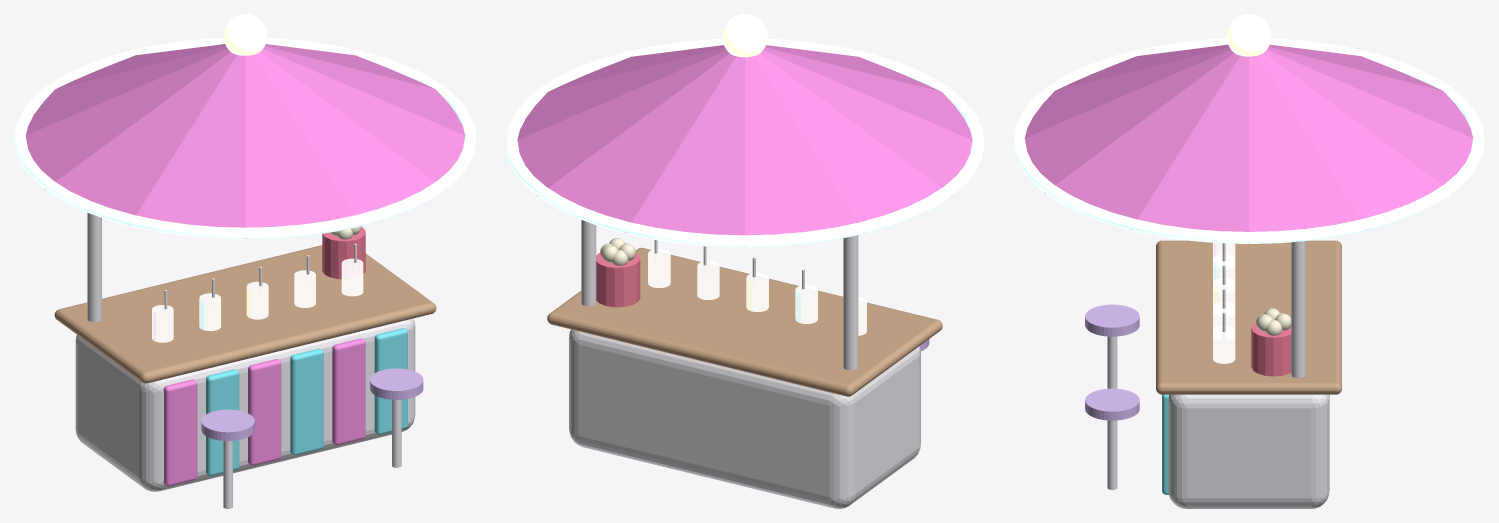
Rendered from snack-bar.glb.
3 renders of one model, left to right at view 1: azimuth 30°, elevation 25°; view 2: azimuth 150°, elevation 25°; view 3: azimuth 270°, elevation 25°, orthographic. The views are drawn at different scales.
Visible parts, largest first — view 1: roof, top, kiosk, light_roof_ring, stripe_0, stripe_3, stripe_4, stripe_2, stripe_1, stripe_5, pole_-1.2, roof_ball (+10 smaller); view 2: roof, kiosk, top, light_roof_ring, pole_-1.2, popcorn, roof_ball, pole_1.2, light_cup_3, light_cup_4, light_cup_2, light_cup_1; view 3: roof, top, kiosk, light_roof_ring, pole_1.2, popcorn, roof_ball, stool_0.8, stool_-0.8, light_cup_4, stool_leg_0.8, stripe_5 (+2 smaller).
Boxes of the visible parts, x1,y1,x2,y2 form: roof: [14, 44, 476, 238]; top: [54, 245, 436, 383]; kiosk: [75, 318, 415, 491]; light_roof_ring: [14, 38, 476, 239]; stripe_0: [163, 379, 197, 486]; stripe_3: [290, 348, 323, 455]; stripe_4: [332, 338, 365, 445]; stripe_2: [248, 359, 281, 465]; stripe_1: [206, 369, 239, 475]; stripe_5: [374, 328, 407, 434]; pole_-1.2: [87, 212, 101, 322]; roof_ball: [223, 14, 267, 55]; roof: [505, 45, 984, 246]; kiosk: [569, 329, 920, 508]; top: [547, 247, 942, 396]; light_roof_ring: [505, 39, 984, 247]; pole_-1.2: [843, 235, 858, 370]; popcorn: [596, 253, 640, 307]; roof_ball: [722, 14, 767, 57]; pole_1.2: [581, 220, 596, 306]; light_cup_3: [697, 261, 719, 299]; light_cup_4: [648, 249, 670, 287]; light_cup_2: [746, 273, 768, 311]; light_cup_1: [795, 285, 817, 323]; roof: [1013, 44, 1484, 242]; top: [1156, 240, 1341, 394]; kiosk: [1168, 394, 1329, 508]; light_roof_ring: [1013, 38, 1484, 243]; pole_1.2: [1291, 241, 1305, 377]; popcorn: [1251, 323, 1291, 376]; roof_ball: [1226, 14, 1271, 56]; stool_0.8: [1085, 388, 1139, 420]; stool_-0.8: [1085, 304, 1139, 336]; light_cup_4: [1213, 325, 1235, 363]; stool_leg_0.8: [1107, 420, 1117, 489]; stripe_5: [1162, 394, 1168, 494].
Bounding box in the file's own units: 3.8 × 3.83 × 3.8.
